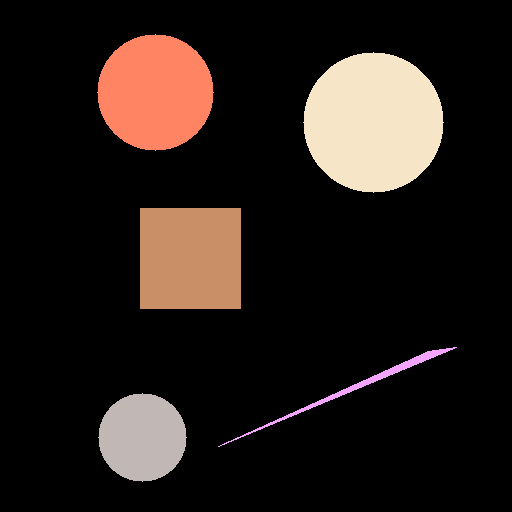circle: (303, 52, 443, 192), (97, 34, 213, 150), (98, 393, 186, 481)
square: (140, 208, 240, 308)
